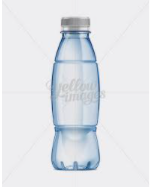Bottle: (51, 18, 100, 171)
